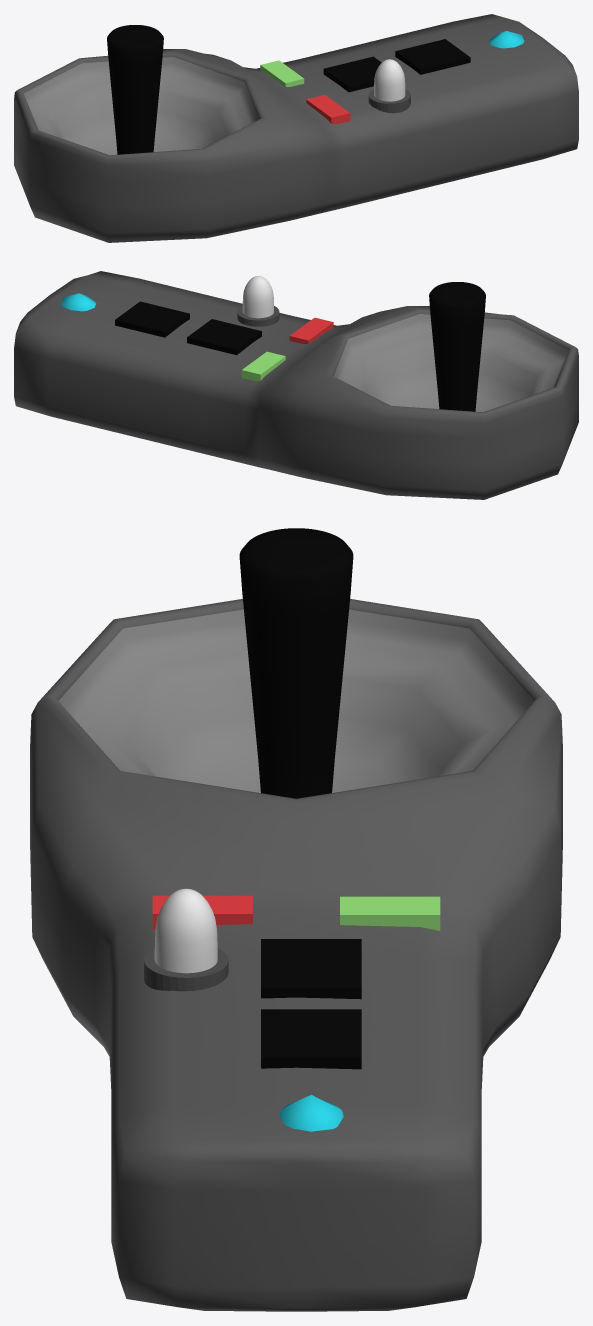
Rendered from pult.fbx.
The picture shows the model from 3 angles, top to bottom: view 1: azimuth 30°, elevation 25°; view 2: azimuth 150°, elevation 25°; view 3: azimuth 270°, elevation 25°; orthographic projection. The views are drawn at different scales.
Visible parts, largest first — view 1: Cube, Cylinder, Cube.004, Cube.003, Cylinder.001, Cube.001, Cube.002, Cylinder.002, Cube.005; view 2: Cube, Cylinder, Cube.004, Cube.003, Cylinder.001, Cube.002, Cube.001, Cube.005, Cylinder.002; view 3: Cube, Cylinder, Cube.004, Cube.003, Cylinder.001, Cube.002, Cylinder.002, Cube.005, Cube.001.
Part boxes in pixels (<box>): Cube: <box>14,14,578,242</box>; Cylinder: <box>107,25,163,154</box>; Cube.004: <box>395,39,470,74</box>; Cube.003: <box>323,56,381,92</box>; Cylinder.001: <box>374,59,405,101</box>; Cube.001: <box>306,95,350,124</box>; Cube.002: <box>260,60,304,86</box>; Cylinder.002: <box>368,89,410,113</box>; Cube.005: <box>489,31,524,48</box>; Cube: <box>14,271,578,499</box>; Cylinder: <box>429,282,485,411</box>; Cube.004: <box>115,301,189,337</box>; Cube.003: <box>187,319,261,355</box>; Cylinder.001: <box>242,276,273,318</box>; Cube.002: <box>241,351,285,381</box>; Cube.001: <box>289,317,333,343</box>; Cube.005: <box>60,293,96,311</box>; Cylinder.002: <box>237,306,279,326</box>; Cube: <box>30,599,562,1311</box>; Cylinder: <box>239,528,353,798</box>; Cube.004: <box>261,1009,361,1069</box>; Cube.003: <box>261,939,361,999</box>; Cylinder.001: <box>154,888,217,973</box>; Cube.002: <box>340,896,440,930</box>; Cylinder.002: <box>144,948,228,991</box>; Cube.005: <box>279,1095,343,1131</box>; Cube.001: <box>152,895,252,929</box>.
Size of the model in its own units: 760 by 258 by 341.
